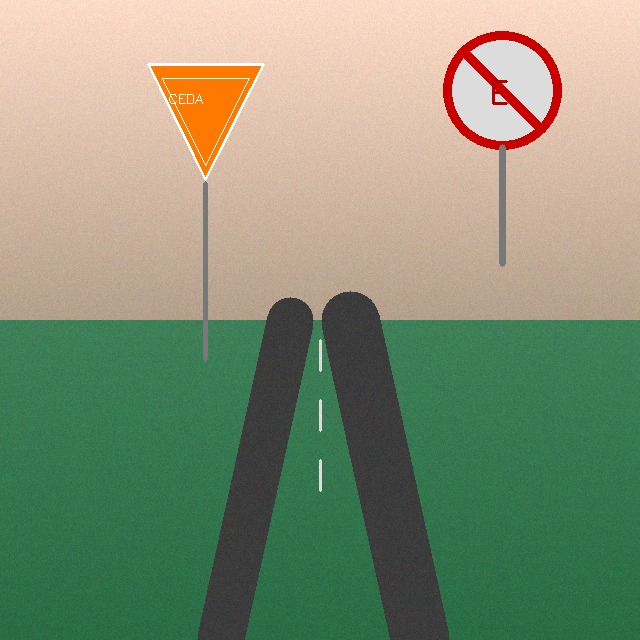ceda_el_paso: (144, 60, 267, 183)
no_estacionar: (445, 33, 559, 147)
